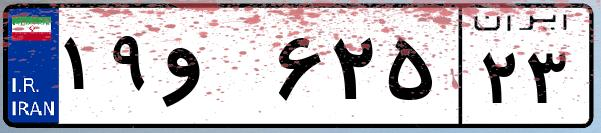1: (57, 26, 110, 100)
2: (330, 28, 385, 110), (475, 38, 525, 113)
3: (525, 38, 570, 115)
5: (385, 28, 445, 110)
6: (270, 28, 330, 110)
9: (110, 28, 158, 98)
و: (158, 20, 270, 120)
